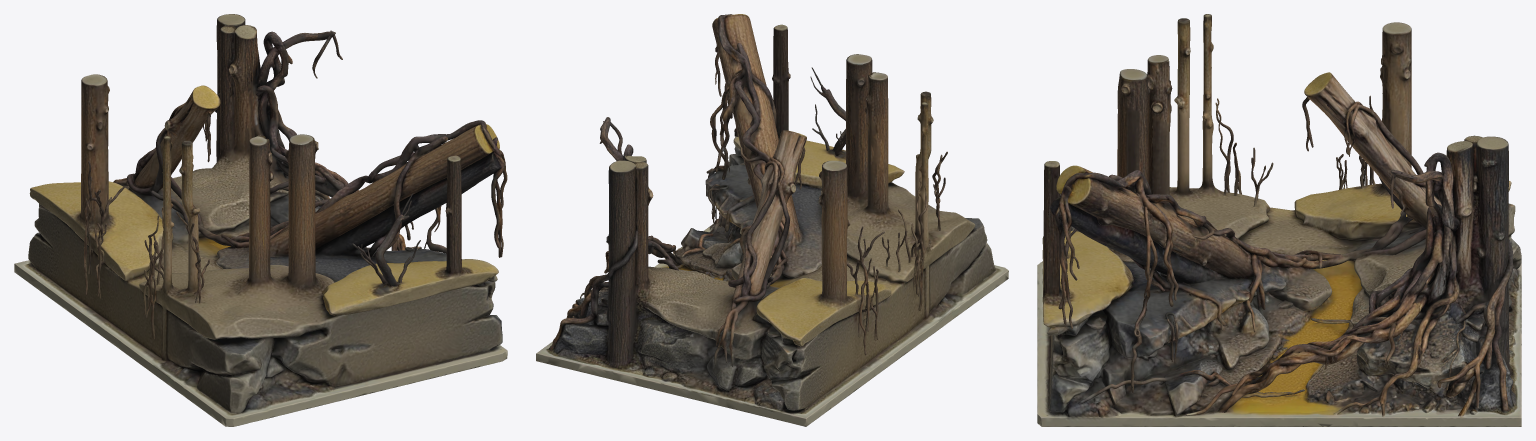
The model's file is Rungver6-v10.glb.
The picture shows the model from 3 angles, left to right: view 1: azimuth 30°, elevation 25°; view 2: azimuth 150°, elevation 25°; view 3: azimuth 270°, elevation 25°; orthographic projection. The views are drawn at different scales.
Visible parts, largest first — view 1: tripo_node_2df7a457-8283-4127-ba86-240f255b6745; view 2: tripo_node_2df7a457-8283-4127-ba86-240f255b6745; view 3: tripo_node_2df7a457-8283-4127-ba86-240f255b6745.
Boxes of the visible parts, x1=… form: tripo_node_2df7a457-8283-4127-ba86-240f255b6745: x1=14, y1=14, x2=507, y2=426; tripo_node_2df7a457-8283-4127-ba86-240f255b6745: x1=536, y1=14, x2=1008, y2=426; tripo_node_2df7a457-8283-4127-ba86-240f255b6745: x1=1037, y1=14, x2=1521, y2=426.
Size of the model in its own units: 0.7767 by 0.5885 by 0.9789.
1 material, 1 textured.
